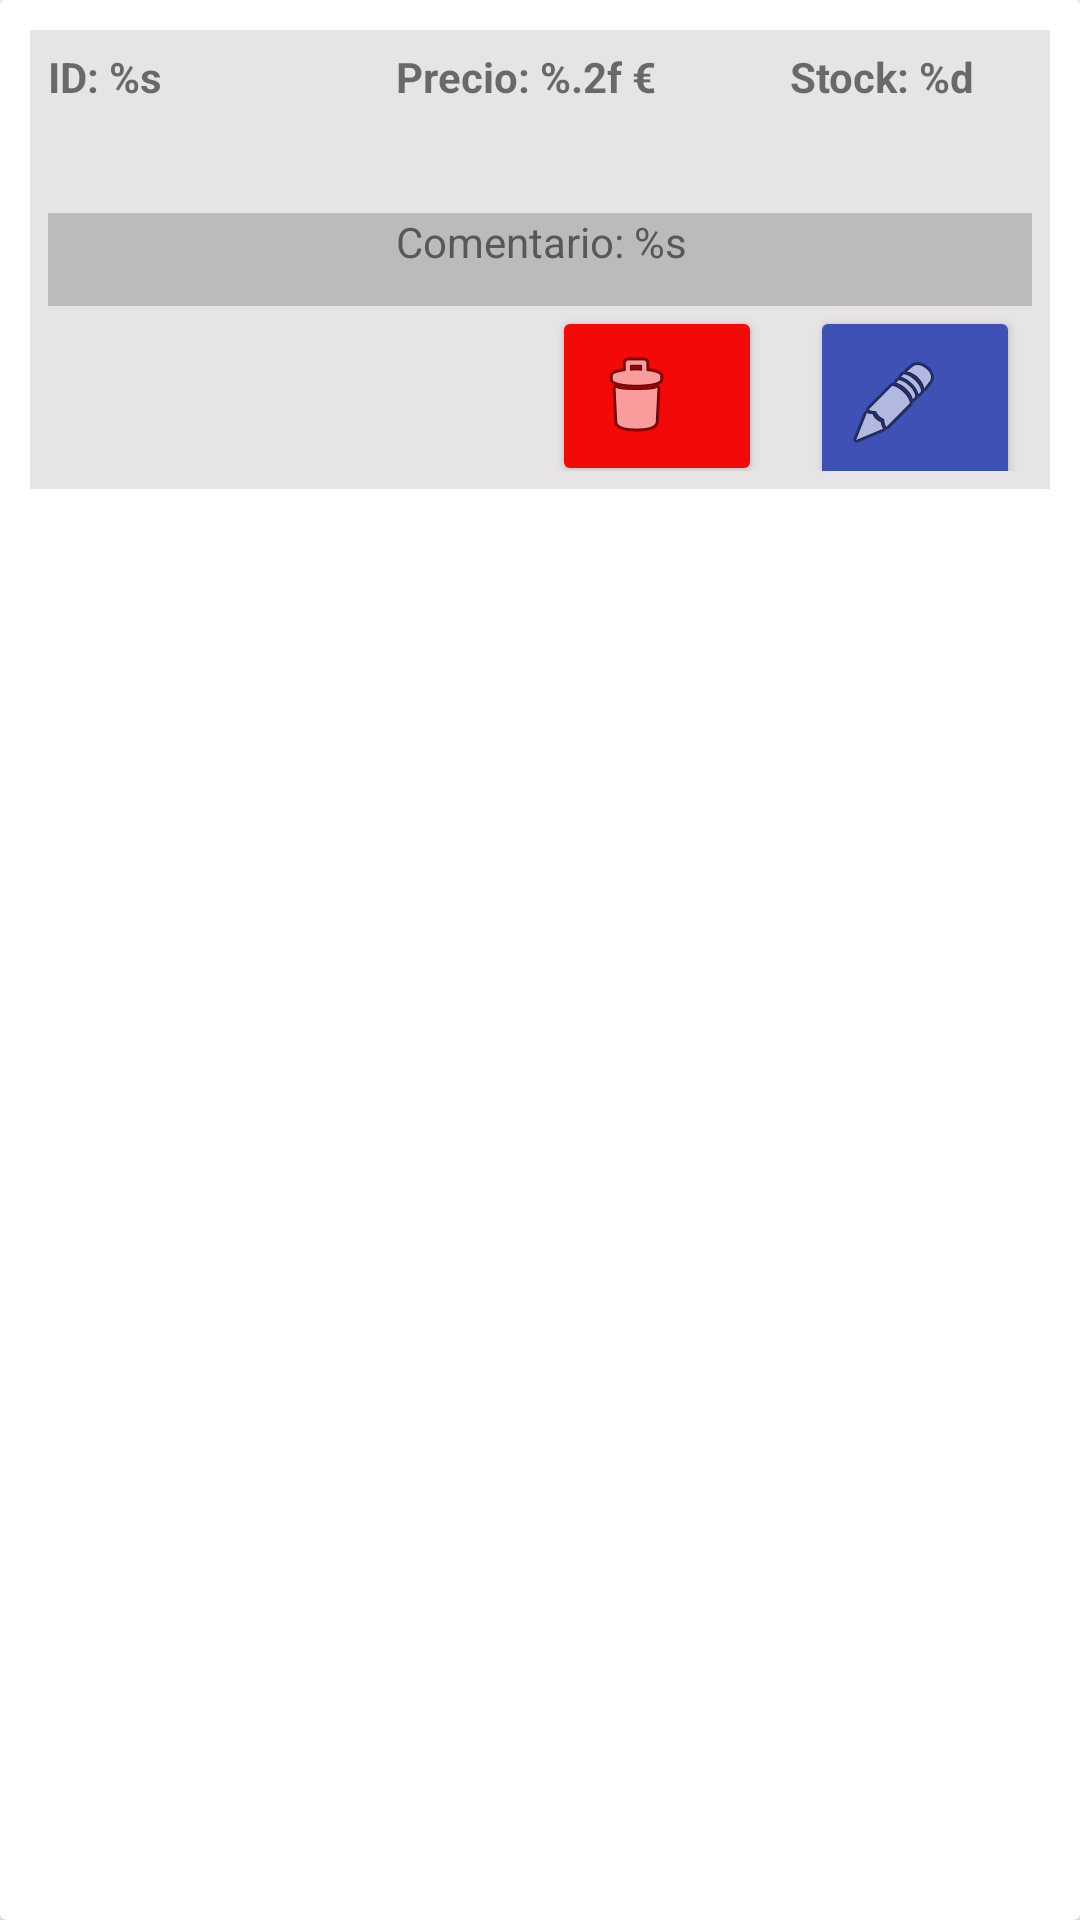

Point at icon controls on the screen. Image size 1080px×1920px, points as [x,y].
delete: [657,396]
edit: [915,397]
